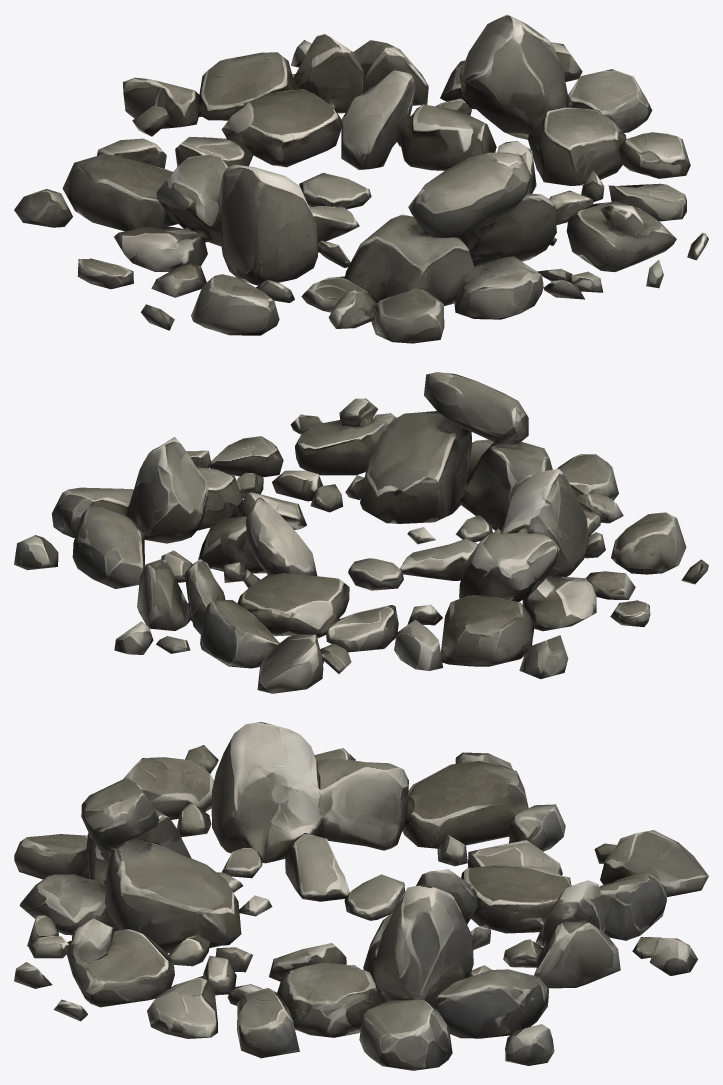
The picture shows the model from 3 angles, top to bottom: view 1: azimuth 30°, elevation 25°; view 2: azimuth 150°, elevation 25°; view 3: azimuth 270°, elevation 25°; orthographic projection. The views are drawn at different scales.
Parts seen in each view (by area): view 1: Mesh_0; view 2: Mesh_0; view 3: Mesh_0.
Part boxes in pixels (x1,y1,x2,y2): Mesh_0: (14,14,708,343); Mesh_0: (14,372,708,693); Mesh_0: (14,722,708,1070).
Bounding box in the file's own units: 1.91 × 0.3729 × 1.82.
1 material, 1 textured.
